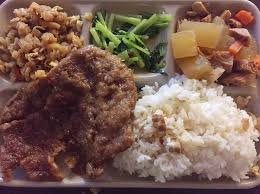rice: (148, 92, 252, 173)
